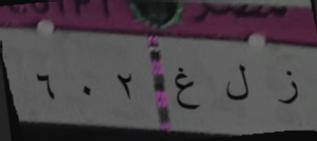0: (80, 80, 97, 102)
2: (116, 69, 136, 104)
6: (35, 69, 57, 106)
ghayn: (173, 64, 201, 116)
laam: (224, 59, 250, 106)
zay: (270, 65, 301, 111)
